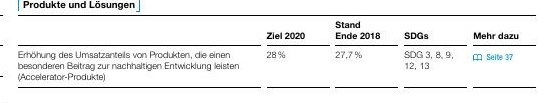table: (0, 0, 553, 103)
